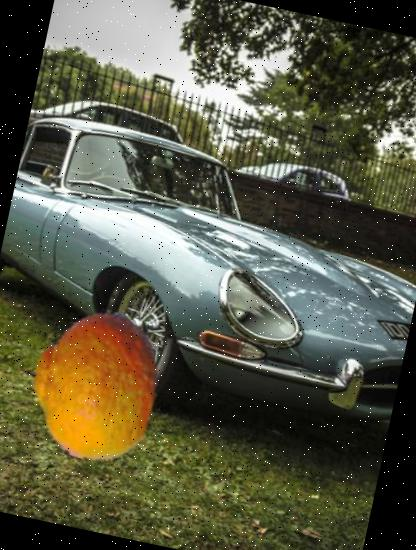Mandarine: (6, 296, 184, 474)
